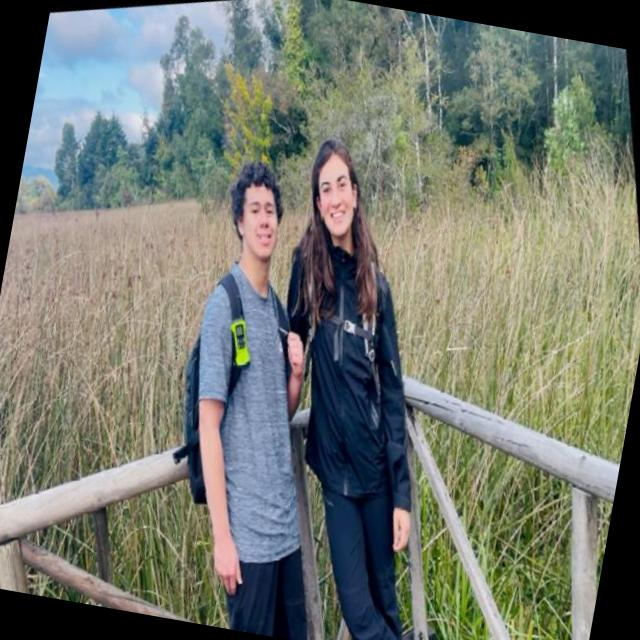person: (191, 77, 540, 640), (59, 107, 418, 640)
